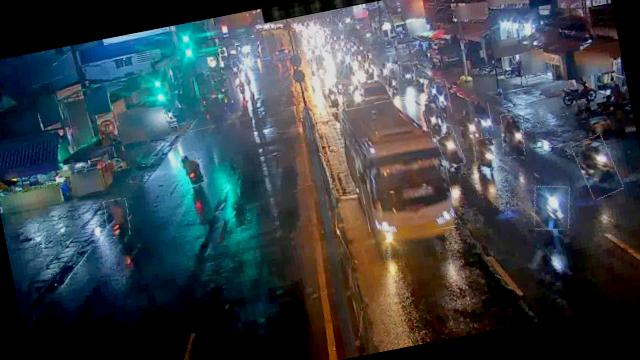Bike: (573, 133, 622, 201), (528, 182, 574, 233), (497, 111, 529, 158), (434, 124, 466, 170), (102, 196, 132, 238), (422, 96, 448, 140), (179, 150, 206, 188), (471, 136, 497, 170), (459, 115, 483, 142), (473, 102, 492, 133), (322, 84, 342, 113), (435, 80, 452, 114), (398, 62, 416, 86), (386, 64, 402, 90)
Bus: (344, 92, 458, 243)
